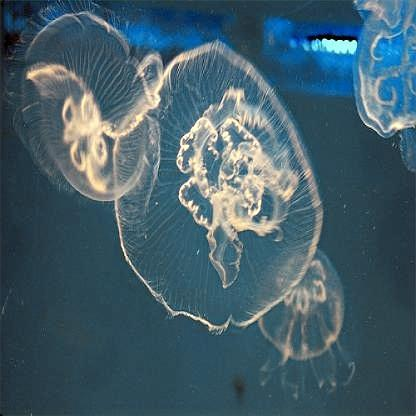Speckle: (111, 47, 324, 329), (12, 11, 162, 205), (253, 254, 358, 395), (349, 7, 416, 171)
